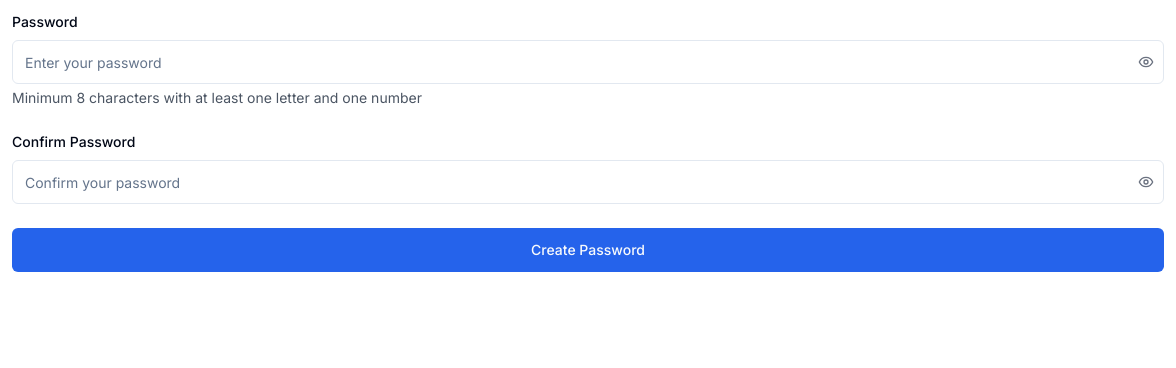
Test: PasswordCreationForm › submission › should show error message from API response
Step 1. Type "ValidPass123" into the password field labelled "Password" → (588, 62), box x1=12 y1=40 x2=1164 y2=84
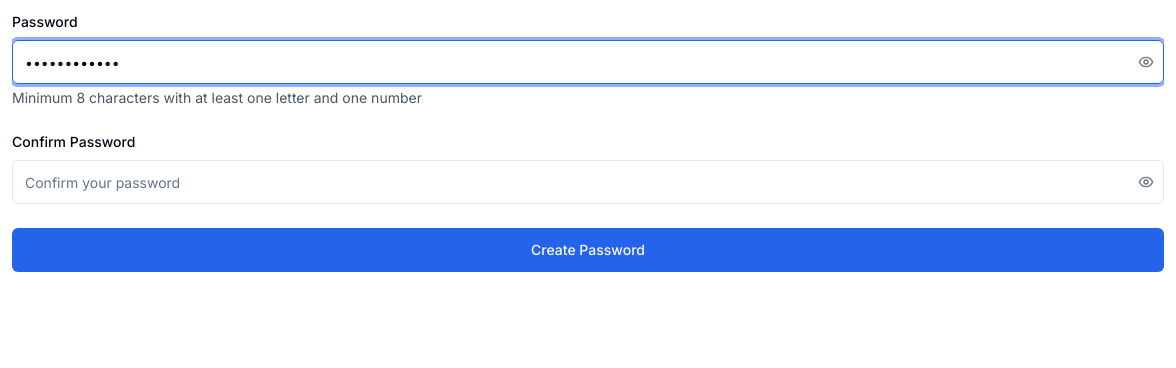
Step 2. Type "ValidPass123" into the password field labelled "Confirm Password" → (588, 182), box x1=12 y1=160 x2=1164 y2=204
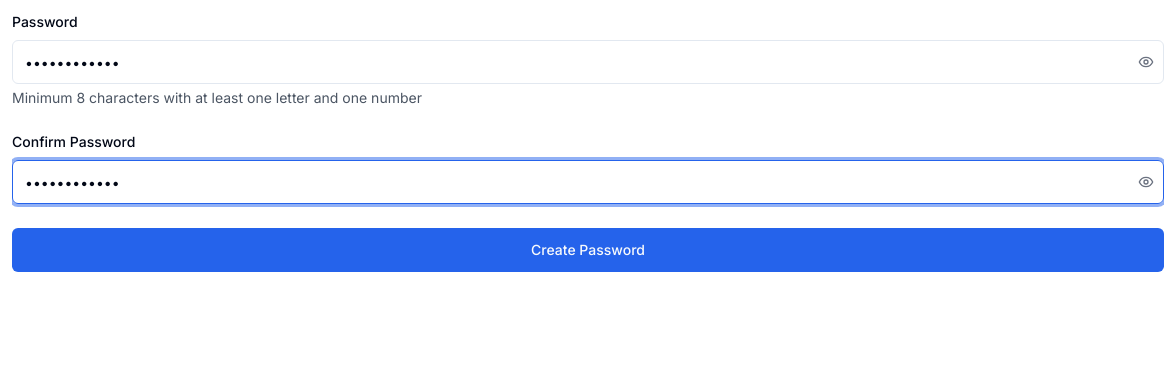
Step 3. Click the button "Create Password" → (588, 250), box x1=12 y1=228 x2=1164 y2=272
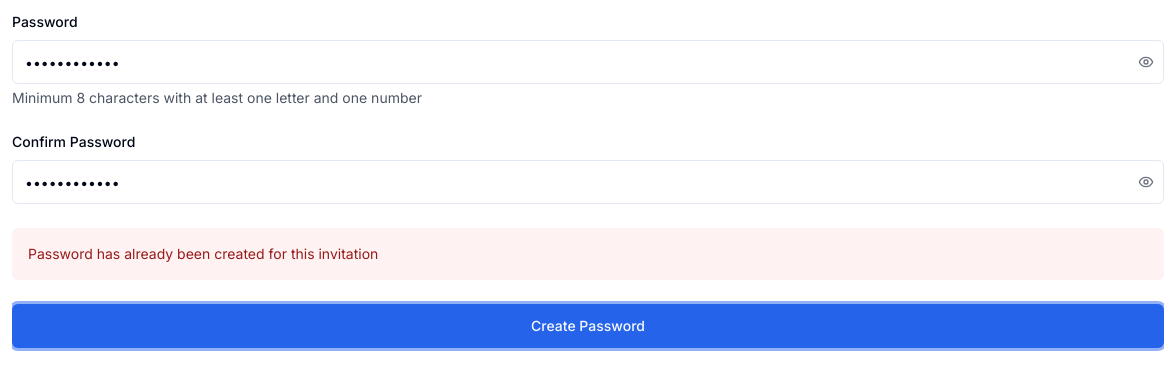
expect the text "Password has already been created for this invitation" is shown: met, box x1=28 y1=245 x2=378 y2=262
